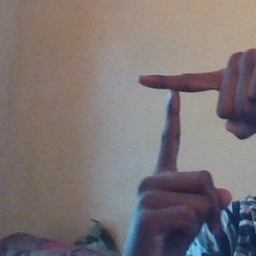T: (121, 58, 242, 188)
